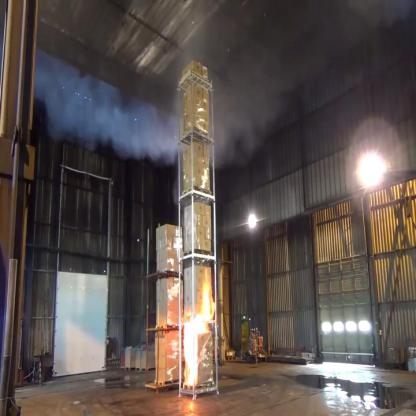fire: (179, 276, 217, 390)
